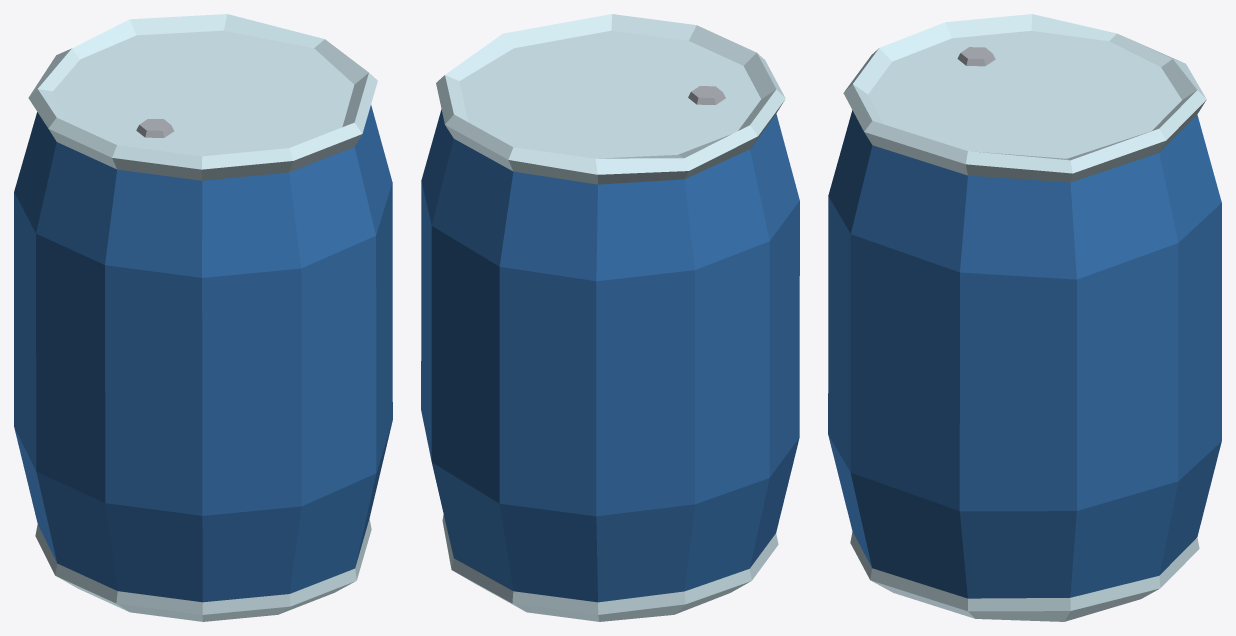
File: SM_Prop_Barrel_Plastic_01.obj
3 renders of one model, left to right at view 1: azimuth 30°, elevation 25°; view 2: azimuth 150°, elevation 25°; view 3: azimuth 270°, elevation 25°, orthographic.
Parts seen in each view (by area): view 1: SM_Prop_Barrel_Plastic_01_0; view 2: SM_Prop_Barrel_Plastic_01_0; view 3: SM_Prop_Barrel_Plastic_01_0.
Boxes of the visible parts, x1,y1,x2,y2 form: SM_Prop_Barrel_Plastic_01_0: (14, 14, 392, 621); SM_Prop_Barrel_Plastic_01_0: (421, 14, 799, 621); SM_Prop_Barrel_Plastic_01_0: (828, 14, 1221, 621).
Bounding box in the file's own units: 0.7589 × 1.05 × 0.7857.
Materials: 1 (1 with a texture image).
